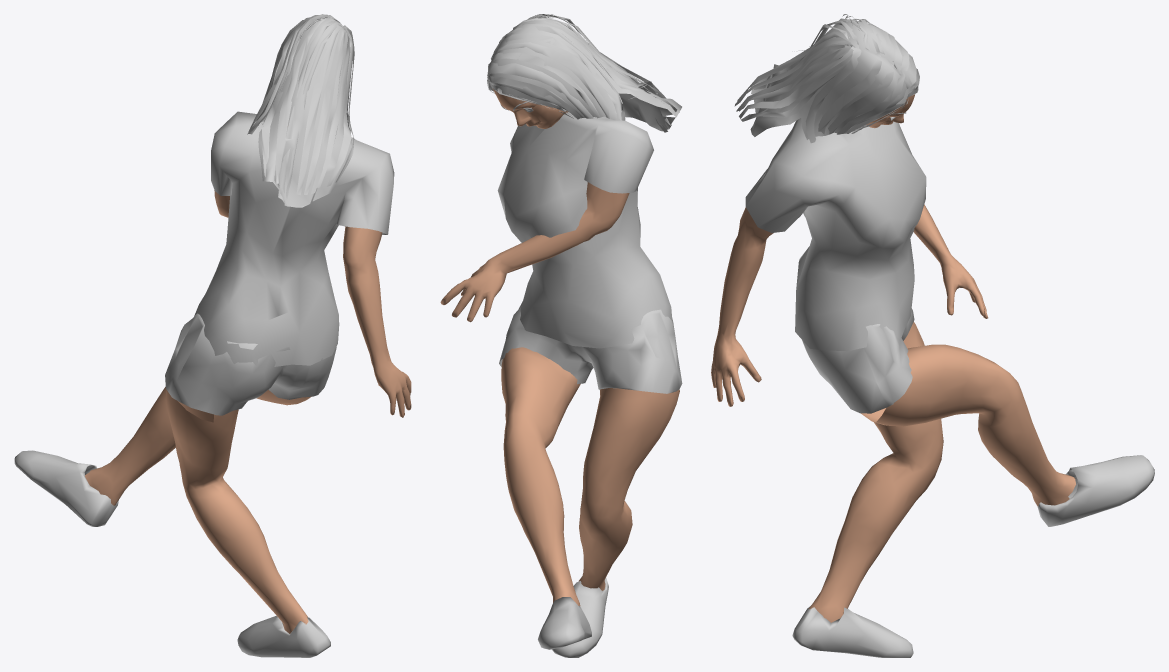
The model's file is player2att_000029.obj.
3 views of the same model, side by side, from view 1: azimuth 30°, elevation 25°; view 2: azimuth 150°, elevation 25°; view 3: azimuth 270°, elevation 25° (orthographic). The views are drawn at different scales.
Parts seen in each view (by area): view 1: player2:tshirt02, player2:Body, player2:fhair01, player2:short01, player2:shoes02; view 2: player2:Body, player2:tshirt02, player2:fhair01, player2:short01, player2:shoes02; view 3: player2:Body, player2:tshirt02, player2:fhair01, player2:shoes02, player2:short01.
Boxes of the visible parts, x1=… form: player2:tshirt02: x1=194, y1=111, x2=394, y2=367; player2:Body: x1=85, y1=190, x2=411, y2=633; player2:fhair01: x1=247, y1=14, x2=354, y2=207; player2:short01: x1=165, y1=313, x2=336, y2=415; player2:shoes02: x1=14, y1=450, x2=330, y2=657; player2:Body: x1=440, y1=88, x2=679, y2=605; player2:tshirt02: x1=497, y1=112, x2=672, y2=348; player2:fhair01: x1=487, y1=14, x2=681, y2=132; player2:short01: x1=499, y1=301, x2=682, y2=393; player2:shoes02: x1=538, y1=577, x2=608, y2=657; player2:Body: x1=711, y1=94, x2=1075, y2=622; player2:tshirt02: x1=745, y1=118, x2=926, y2=351; player2:fhair01: x1=734, y1=14, x2=919, y2=143; player2:shoes02: x1=792, y1=455, x2=1154, y2=657; player2:short01: x1=802, y1=308, x2=914, y2=413.
Size of the model in its own units: 5.58 by 15.5 by 9.41.
